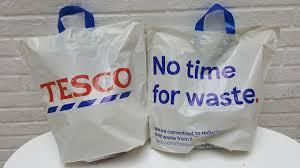Plastic bag: (116, 10, 283, 160), (13, 9, 166, 168)
